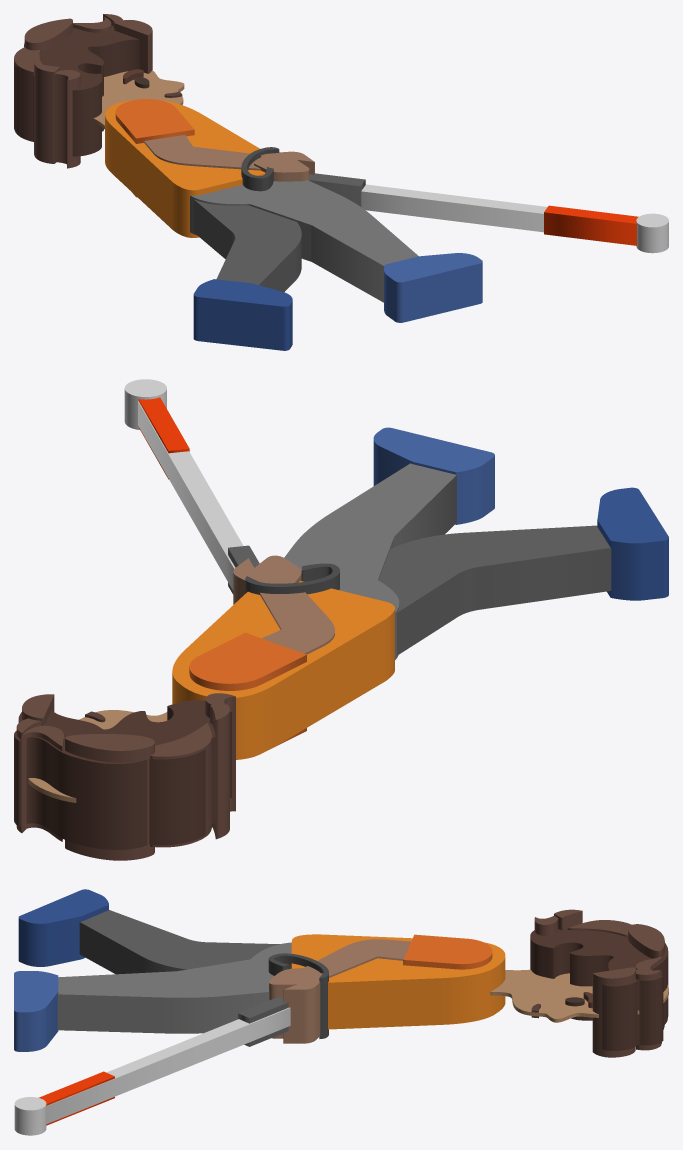
Rendered from emoji_u1f9d1_1f3fd_200d_1f9af_200d_27a1.glb.
3 views of the same model, one above another, from view 1: azimuth 30°, elevation 25°; view 2: azimuth 150°, elevation 25°; view 3: azimuth 270°, elevation 25° (orthographic). The views are drawn at different scales.
Parts seen in each view (by area): view 1: emoji_u1f9d1_1f3fd_200d_1f9af_200d_27a1; view 2: emoji_u1f9d1_1f3fd_200d_1f9af_200d_27a1; view 3: emoji_u1f9d1_1f3fd_200d_1f9af_200d_27a1.
Boxes of the visible parts, x1,y1,x2,y2 form: emoji_u1f9d1_1f3fd_200d_1f9af_200d_27a1: [14, 14, 668, 350]; emoji_u1f9d1_1f3fd_200d_1f9af_200d_27a1: [14, 379, 668, 860]; emoji_u1f9d1_1f3fd_200d_1f9af_200d_27a1: [14, 889, 668, 1135].
Size of the model in its own units: 0.0253 by 0.005 by 0.033.
